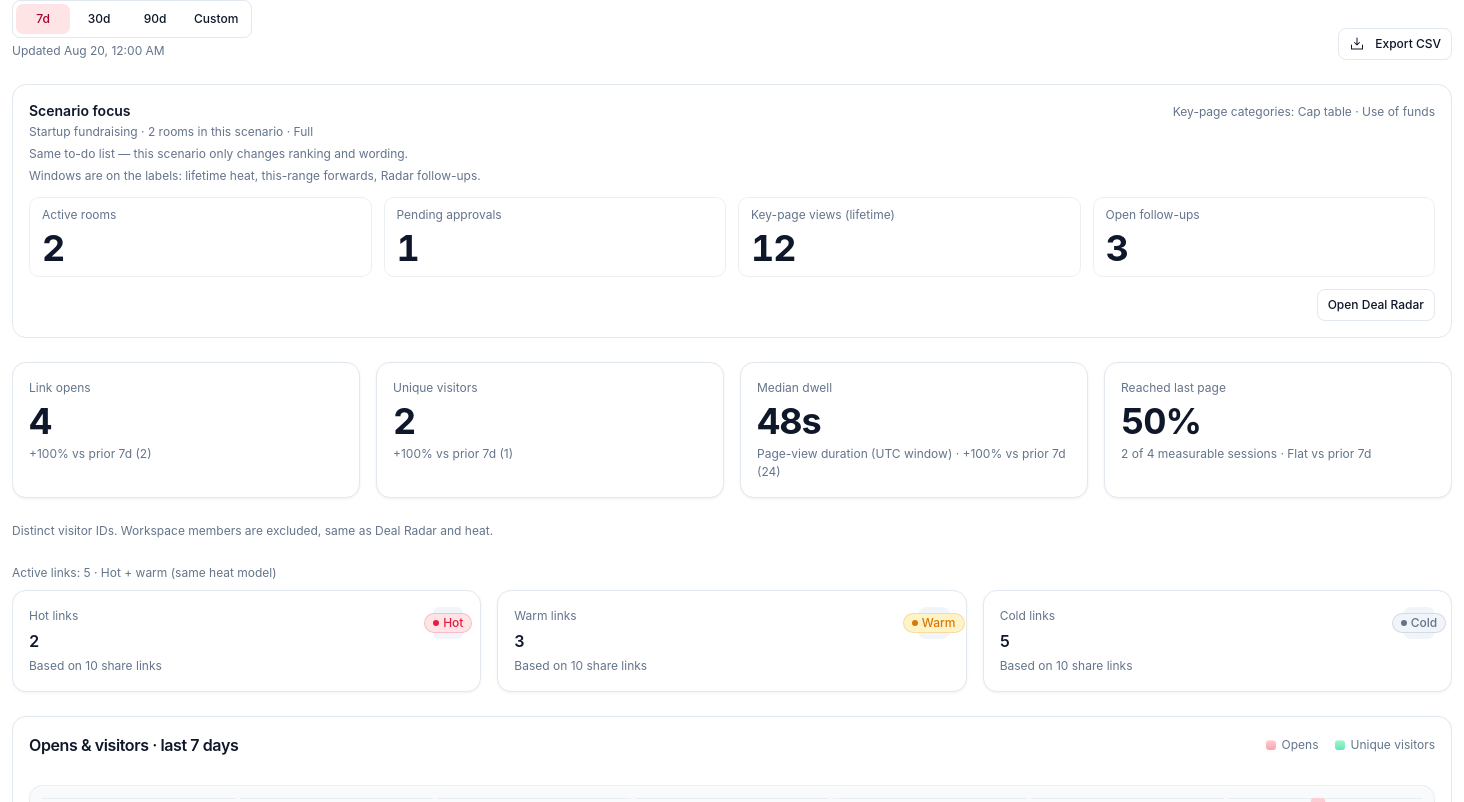
Scenario: InsightsOverviewPage › applies a custom UTC from/to window
This screenshot has width=1464, height=802.
Click the button "Custom".
click(216, 19)  # box [183,3,249,35]
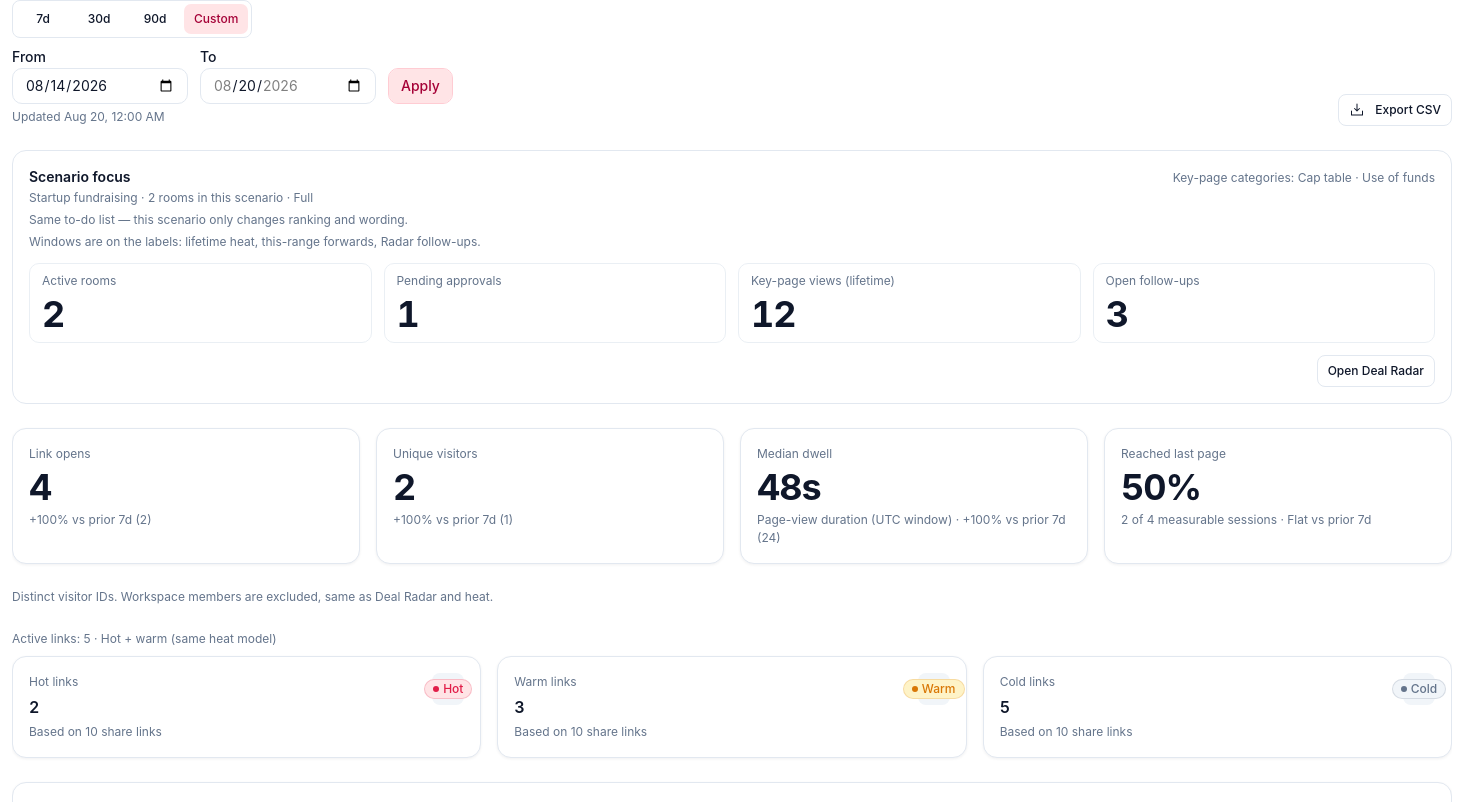
Type "2026-07-01" into the date field labelled "From".
click(100, 86); type("2026-07-01")  # box [12,68,188,104]
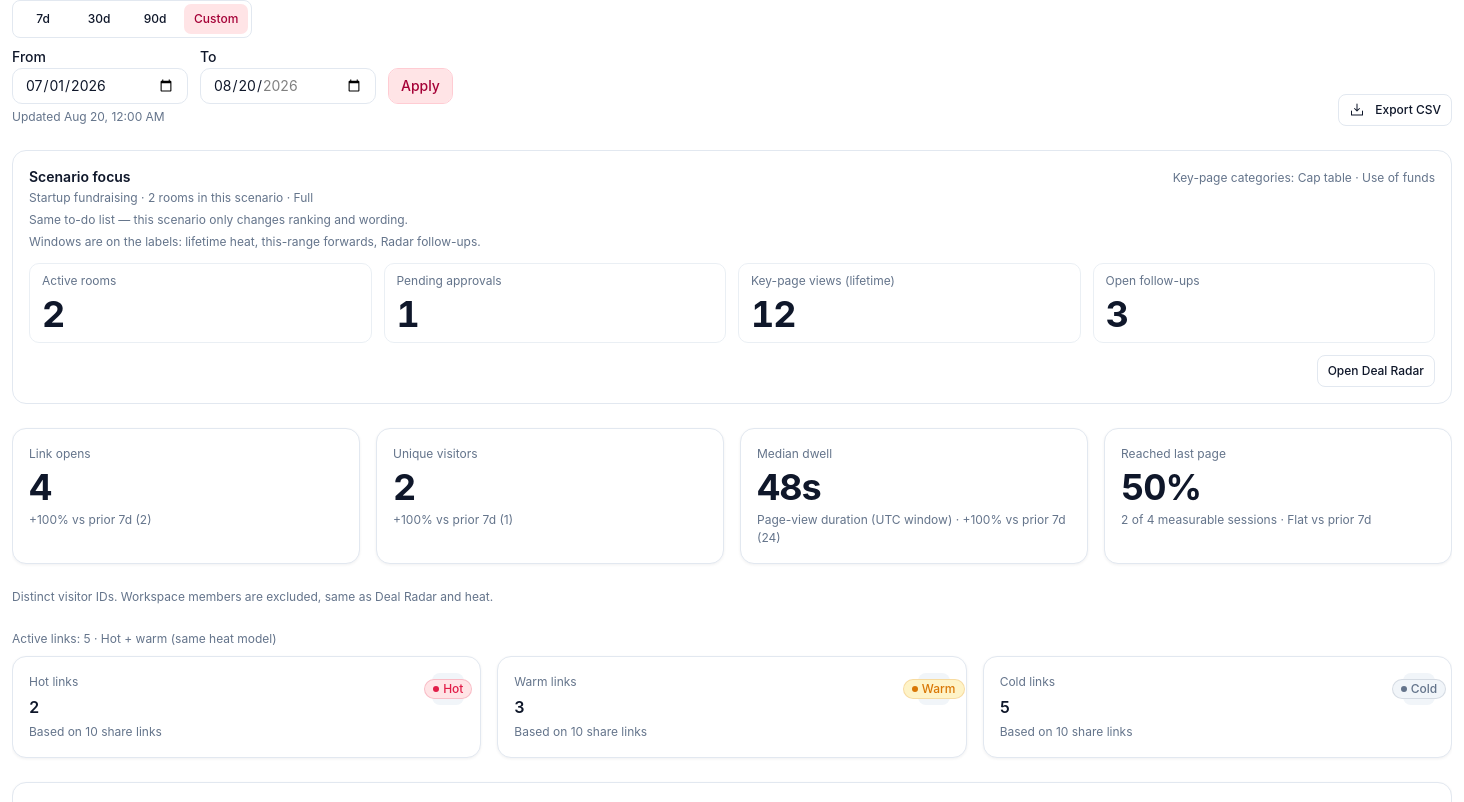
Type "2026-07-14" into the date field labelled "To".
click(288, 86); type("2026-07-14")  # box [200,68,376,104]
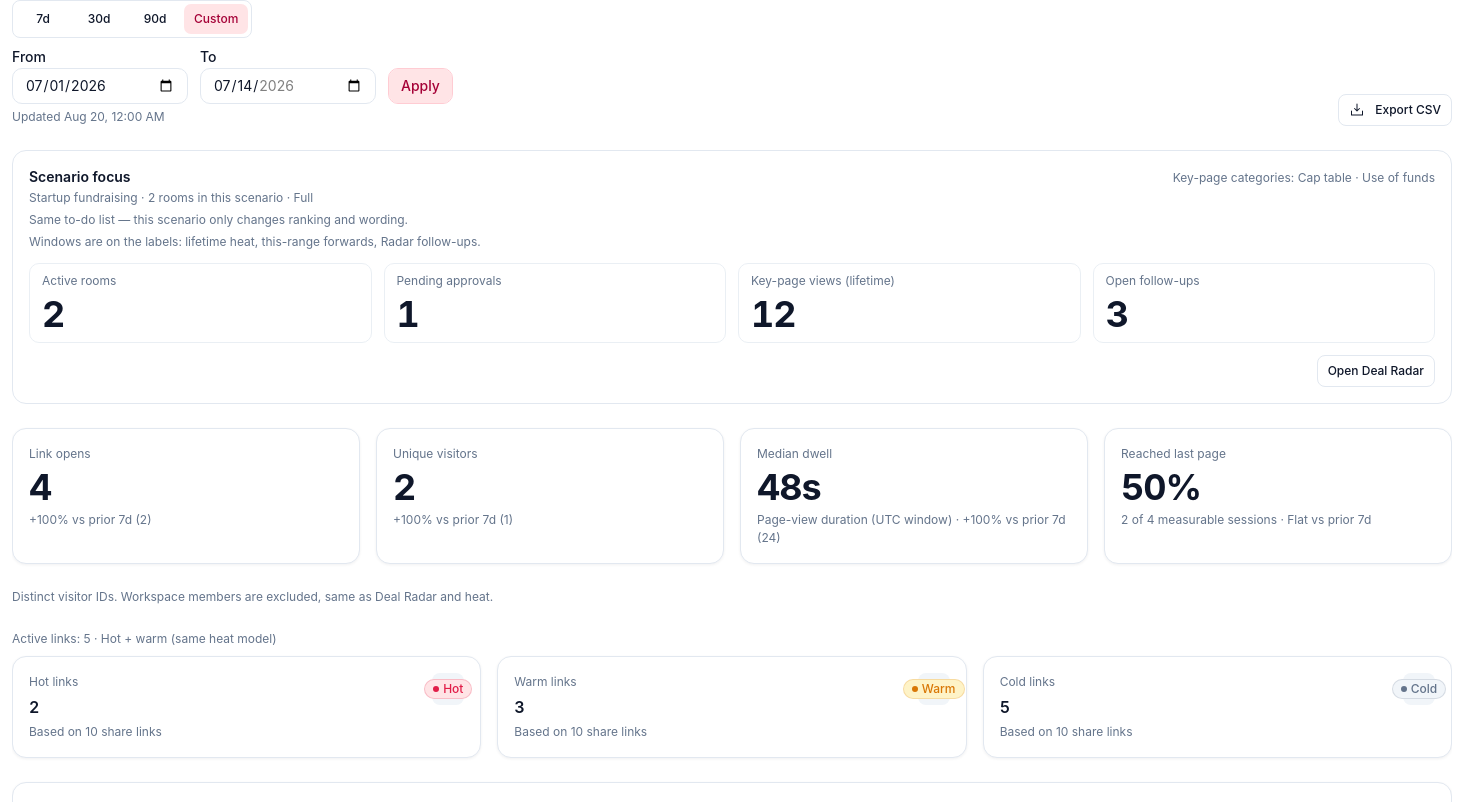
Click the button "Apply".
click(420, 86)  # box [388,68,453,104]
(page scrolled)
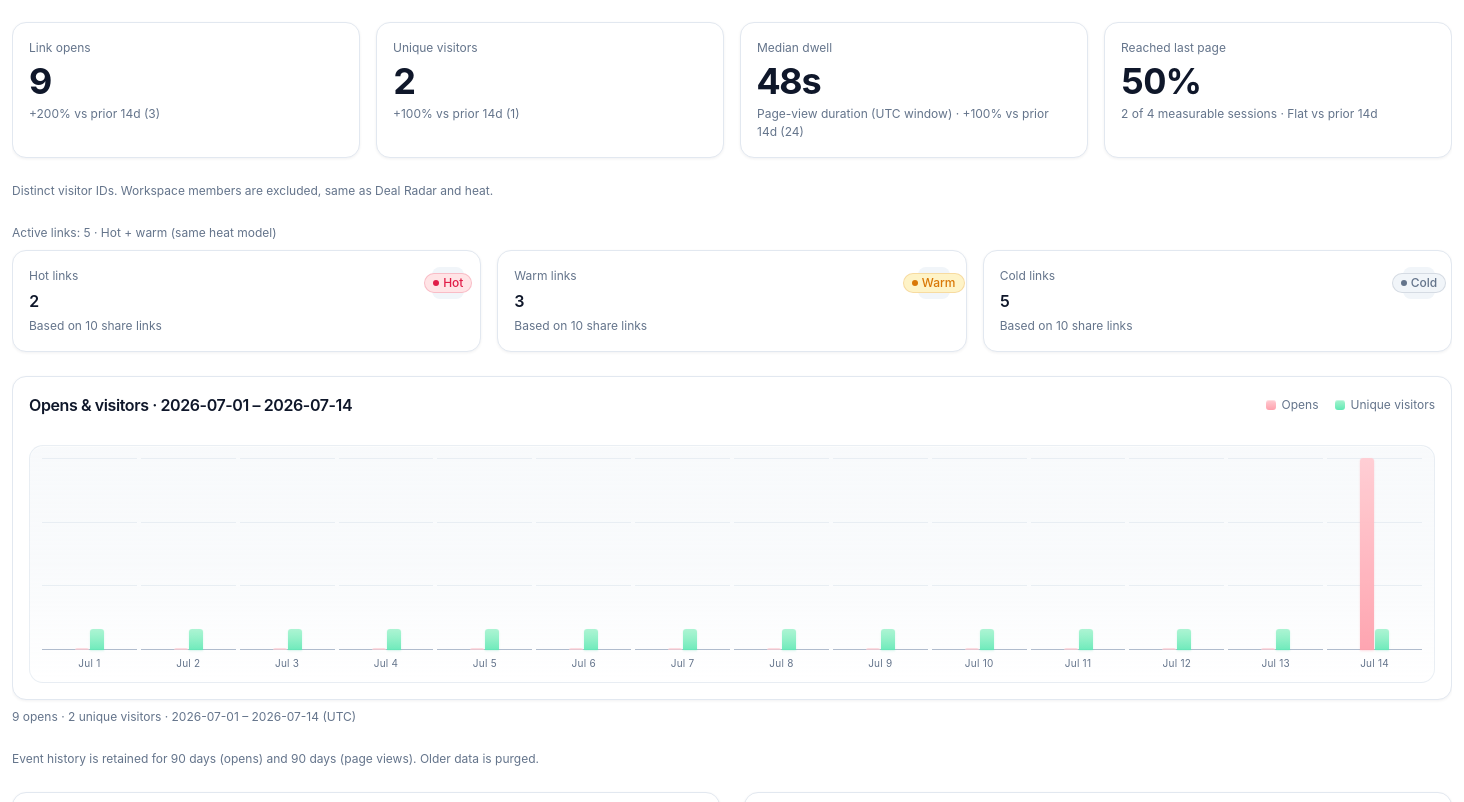
Check: the text "Opens & visitors · 2026-07-01 – 2026-07-14" is shown, box [29,393,352,417]
